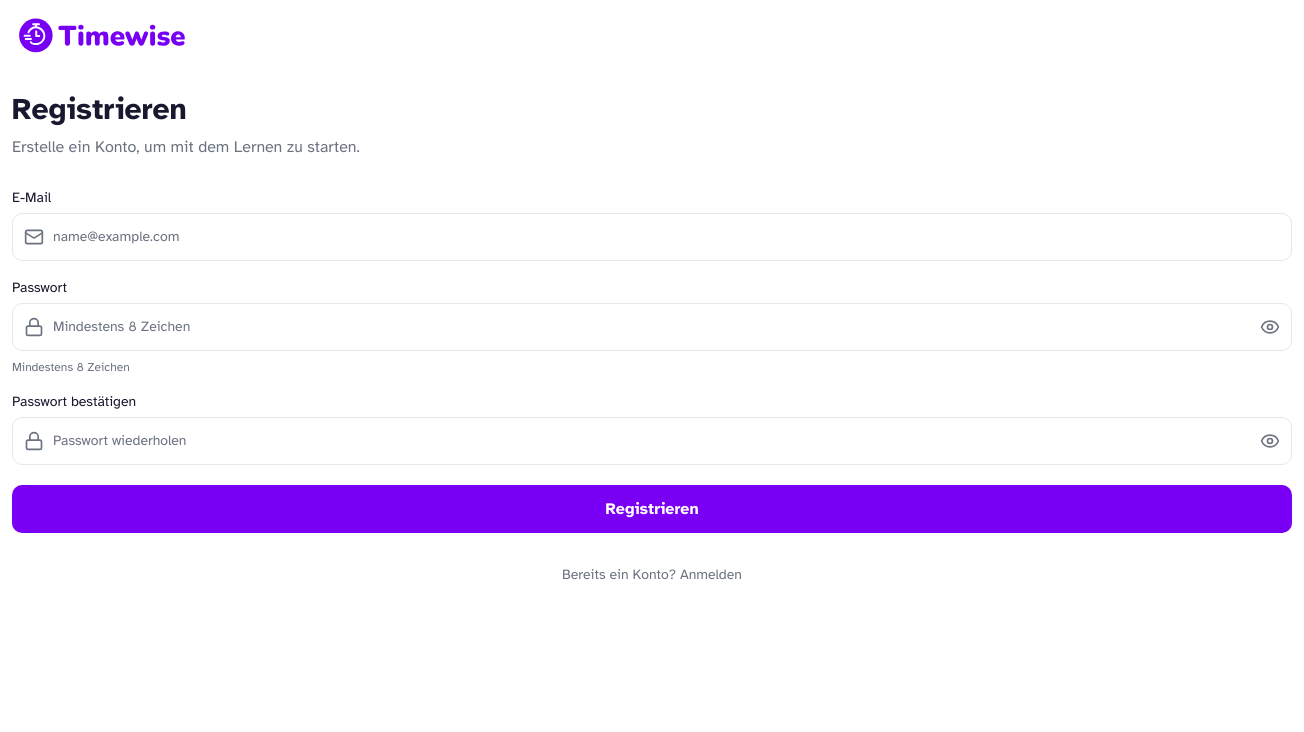
it: RegisterPage › blocks submit when the password is too short
Type "test@example.com" into the field with placeholder "name@example.com" at (652, 237), box [12,213,1292,261]
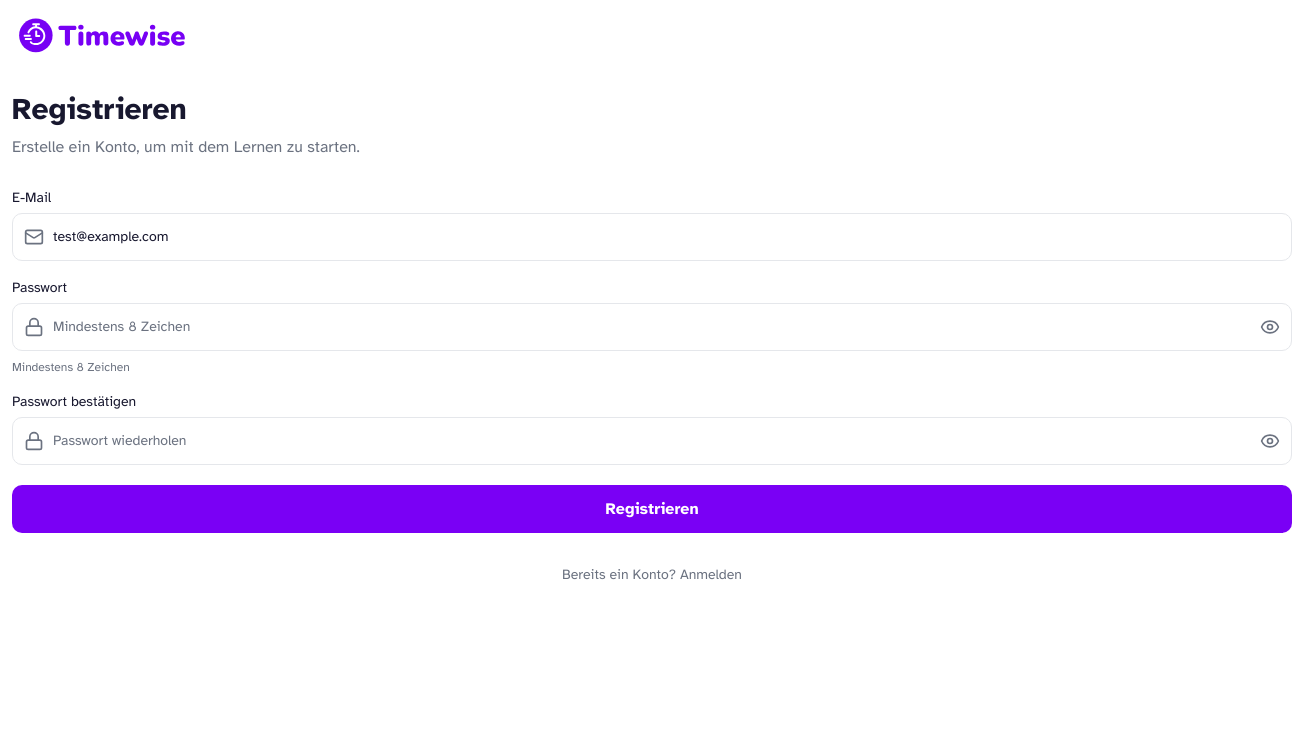
Type "1234567" into the password field with placeholder "Mindestens 8 Zeichen" at (652, 327), box [12,303,1292,351]
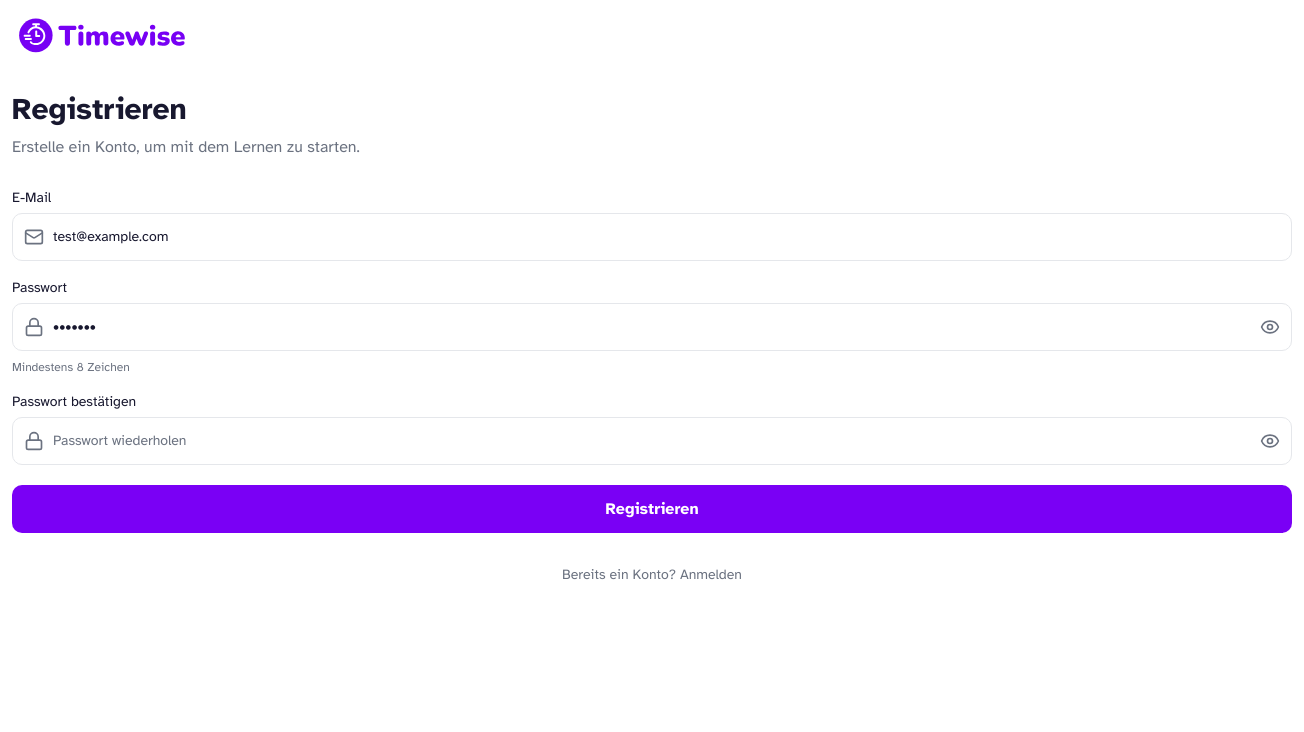
Type "1234567" into the password field with placeholder "Passwort wiederholen" at (652, 441), box [12,417,1292,465]
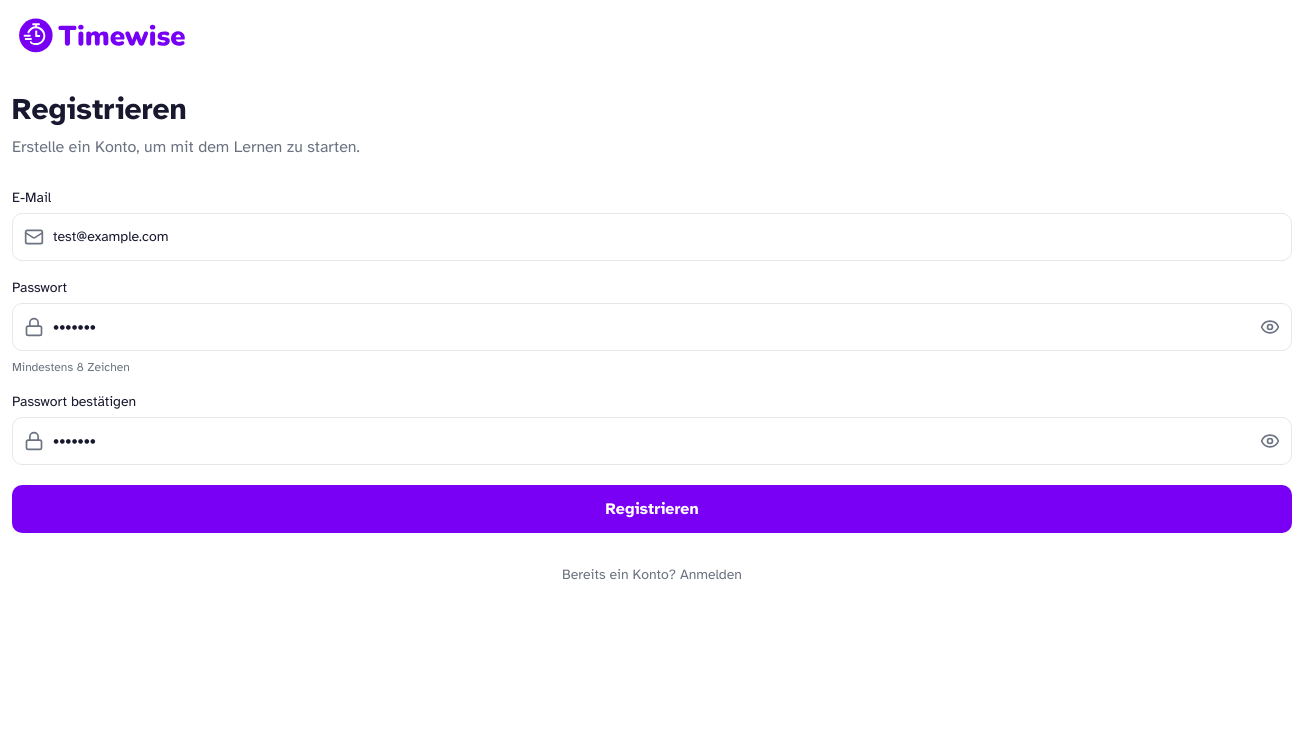
Click the button "Registrieren" at (652, 509), box [12,485,1292,533]
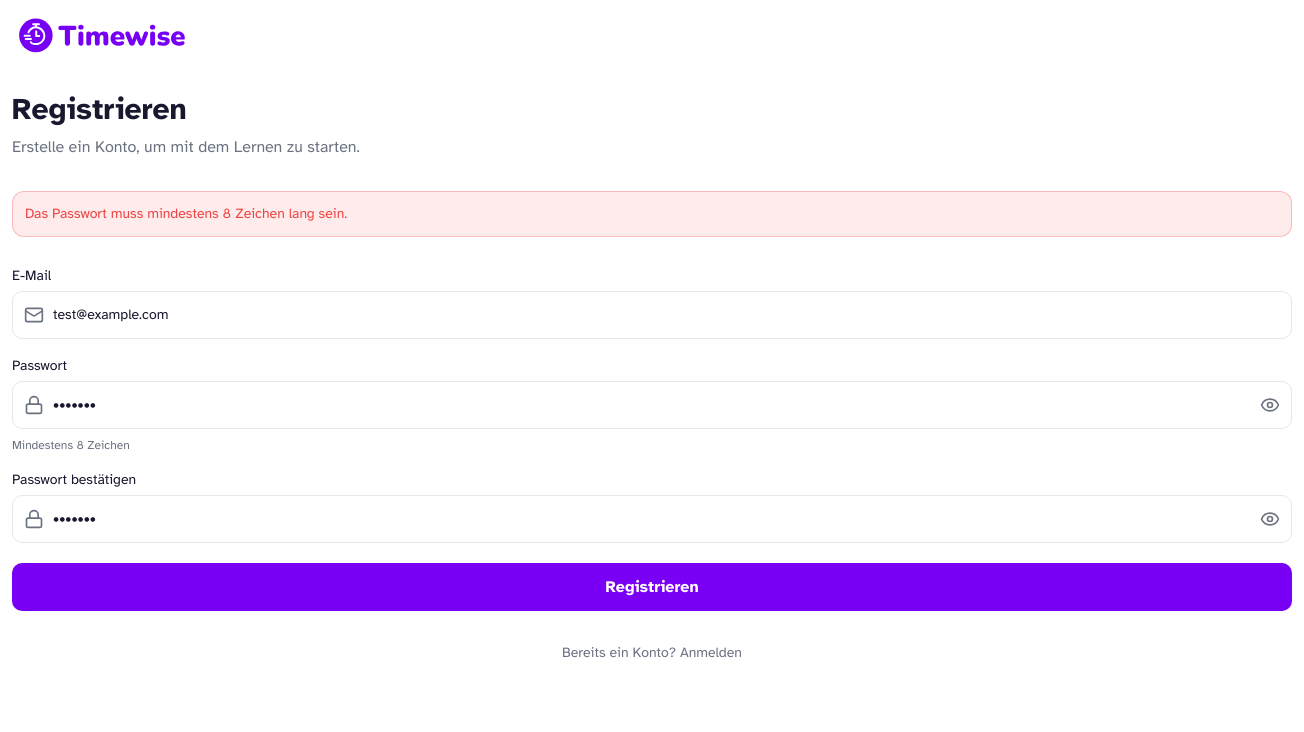
expect the text "Das Passwort muss mindestens 8 Zeichen lang sein." is shown: met, box [12,191,1292,237]
